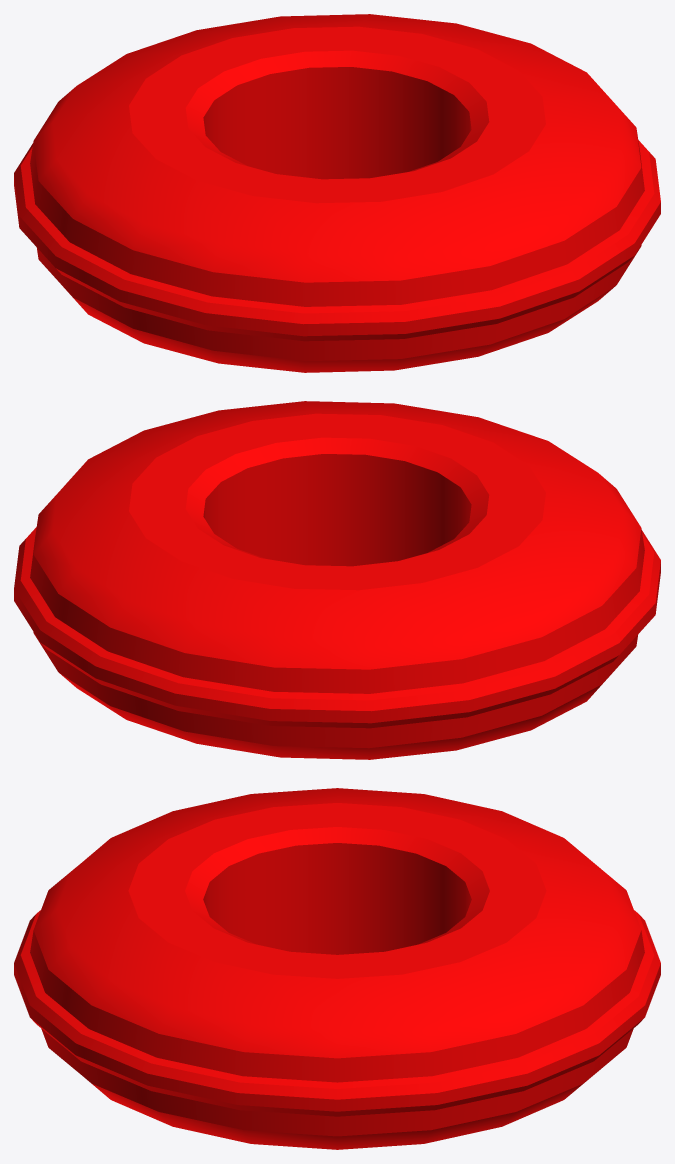
File: Ring 1.obj
3 renders of one model, top to bottom at view 1: azimuth 30°, elevation 25°; view 2: azimuth 150°, elevation 25°; view 3: azimuth 270°, elevation 25°, orthographic.
Parts seen in each view (by area): view 1: polySurface13 polySurface6; view 2: polySurface13 polySurface6; view 3: polySurface13 polySurface6.
Boxes of the visible parts, x1,y1,x2,y2 form: polySurface13 polySurface6: [14, 14, 660, 372]; polySurface13 polySurface6: [14, 401, 660, 759]; polySurface13 polySurface6: [14, 788, 660, 1149].
Size of the model in its own units: 1.56 by 0.4151 by 1.56.
